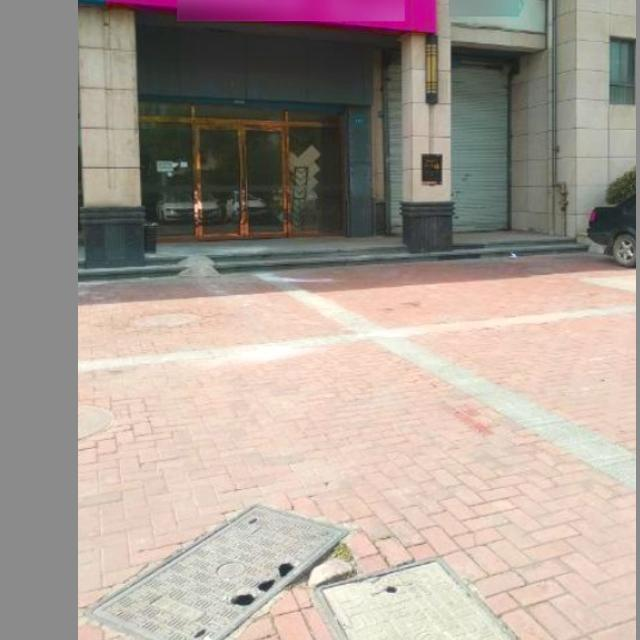broke: (85, 504, 353, 640)
good: (305, 557, 525, 640)
